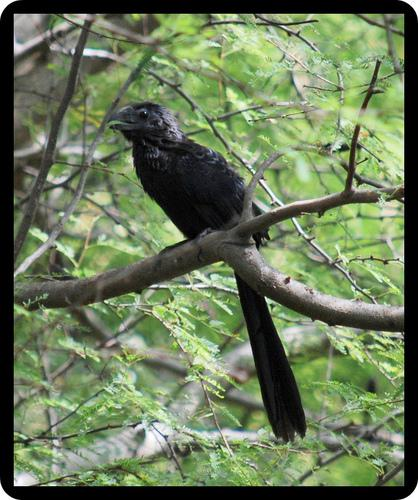004.Groove_billed_Ani: (109, 102, 313, 441)
